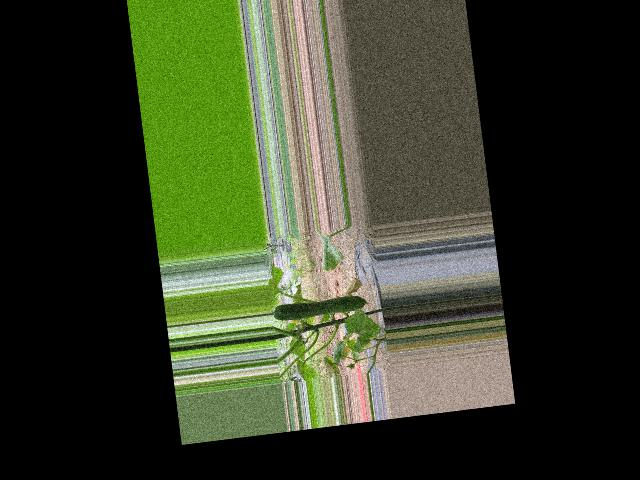cucumber: (272, 293, 370, 322)
